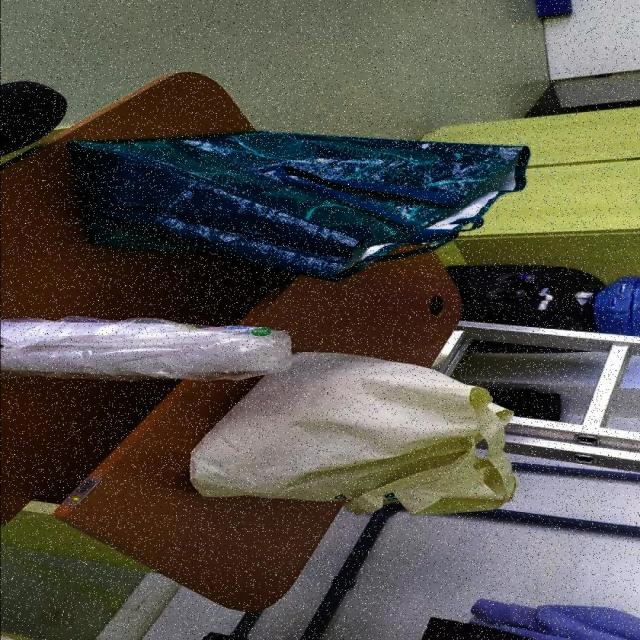Bag: (65, 125, 533, 280), (191, 352, 517, 516)
